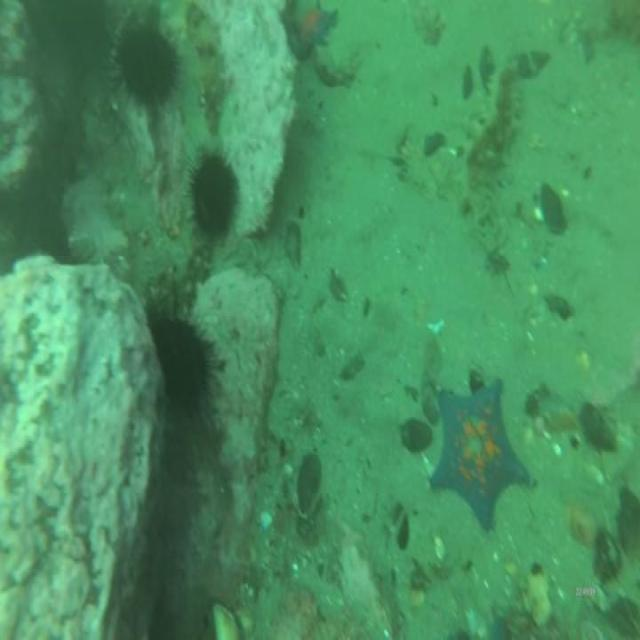echinus: (149, 313, 217, 428), (111, 18, 179, 118), (183, 142, 241, 247)
holothurian: (456, 63, 520, 172), (178, 0, 226, 134)
starfish: (428, 374, 538, 538), (288, 0, 340, 58)
